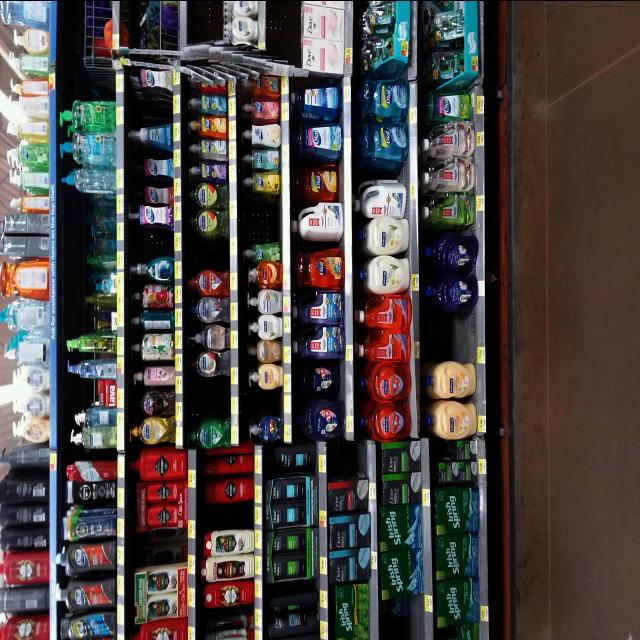empty_space: (388, 601, 424, 639), (247, 201, 277, 242), (429, 324, 471, 351), (147, 530, 183, 556), (189, 384, 227, 408), (208, 502, 248, 523), (196, 244, 227, 264), (247, 393, 277, 411)
